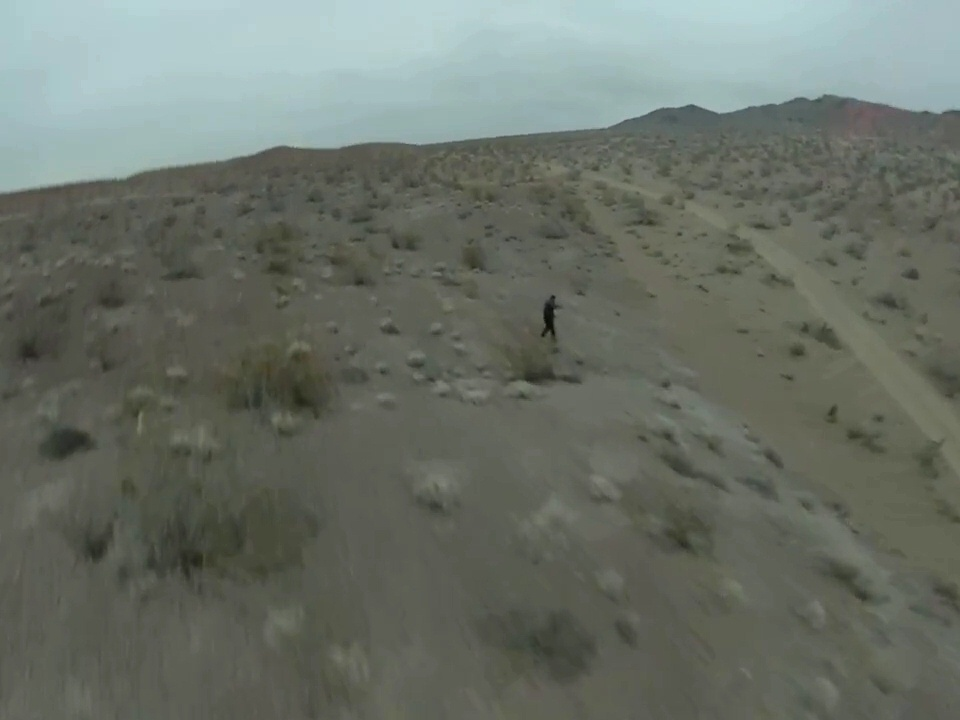insan: (539, 293, 563, 344)
